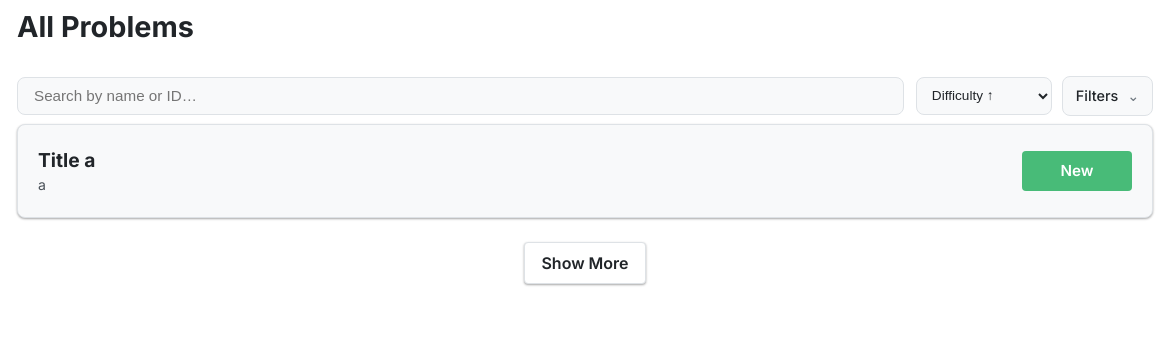
Test: Problems Page › Show More (incremental loading) › keeps the loaded list and offers Retry when loading more fails
The image size is (1171, 360).
expect the heading "Title a" is shown: met, box [38,148,95,172]
What coordinates should you click on to do the following:
click the button "Show More"
I would click on:
 (585, 263)
Its box is [524,242,646,284].
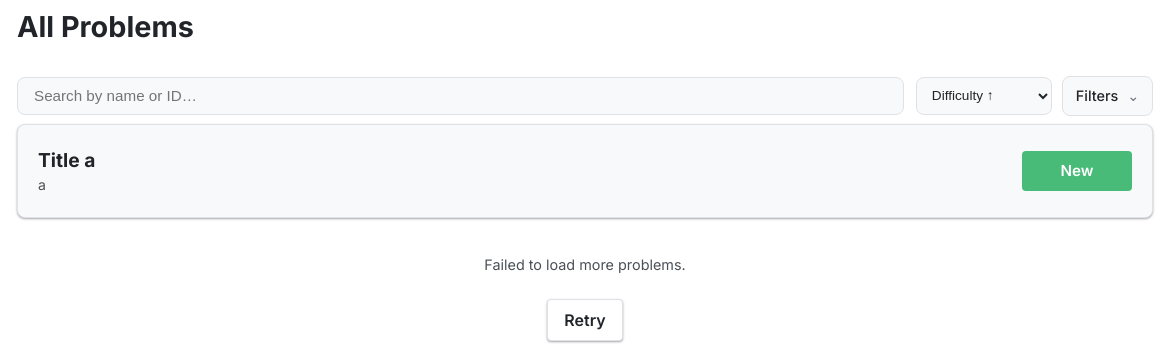
expect the heading "Title a" is shown: met, box [38,148,95,172]
expect the text "Failed to load more problems." is shown: met, box [484,256,686,273]
expect the button "Retry" is shown: met
What coordinates should you click on to do the following:
click the button "Retry"
I would click on:
 (585, 320)
Its box is [547,299,623,341].
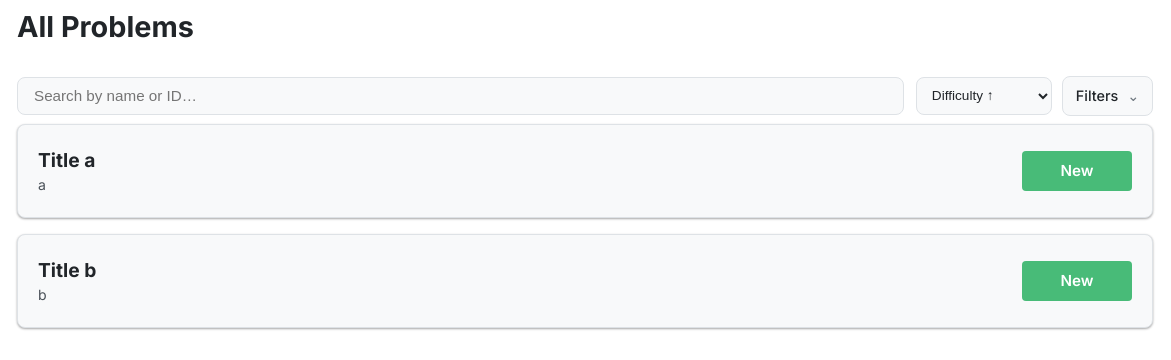
expect the heading "Title b" is shown: met, box [38,258,96,282]
expect the text "Failed to load more problems" is gone: met
